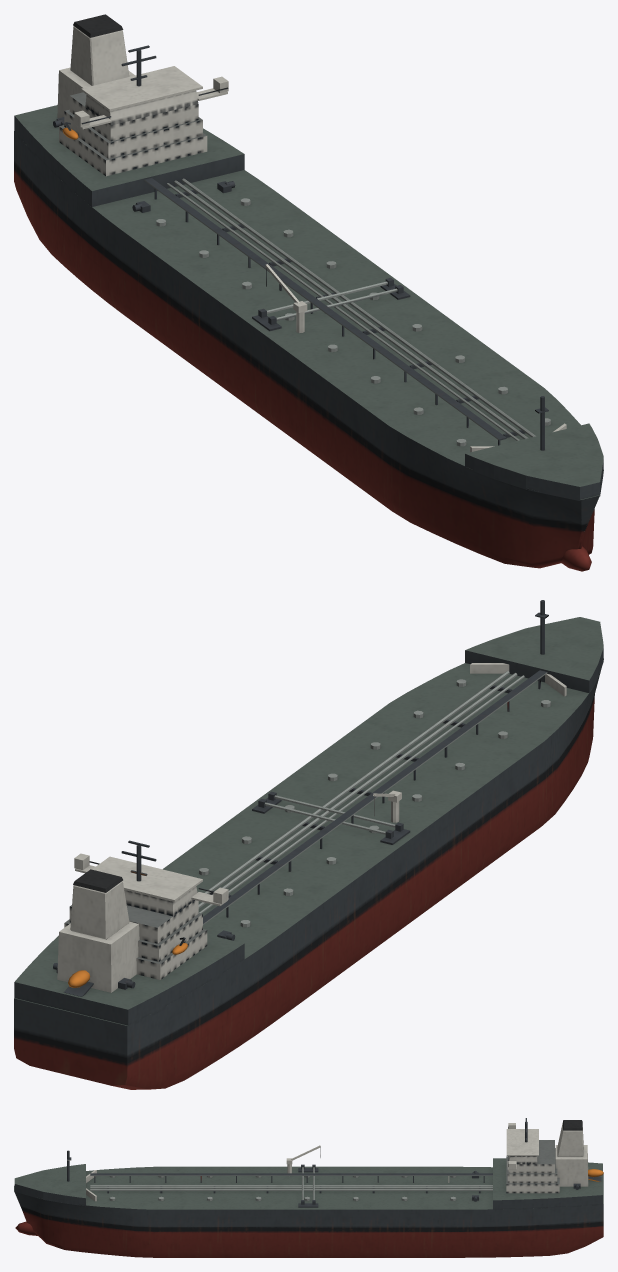
The model's file is fuel-tanker.fbx.
The picture shows the model from 3 angles, top to bottom: view 1: azimuth 30°, elevation 25°; view 2: azimuth 150°, elevation 25°; view 3: azimuth 270°, elevation 25°; orthographic projection. The views are drawn at different scales.
Parts seen in each view (by area): view 1: fuel-tanker; view 2: fuel-tanker; view 3: fuel-tanker.
Part boxes in pixels (<box>): fuel-tanker: <box>14,14,603,571</box>; fuel-tanker: <box>14,600,603,1089</box>; fuel-tanker: <box>14,1118,603,1257</box>.
Bounding box in the file's own units: 46 × 59.6 × 267.
1 material, 1 textured.
